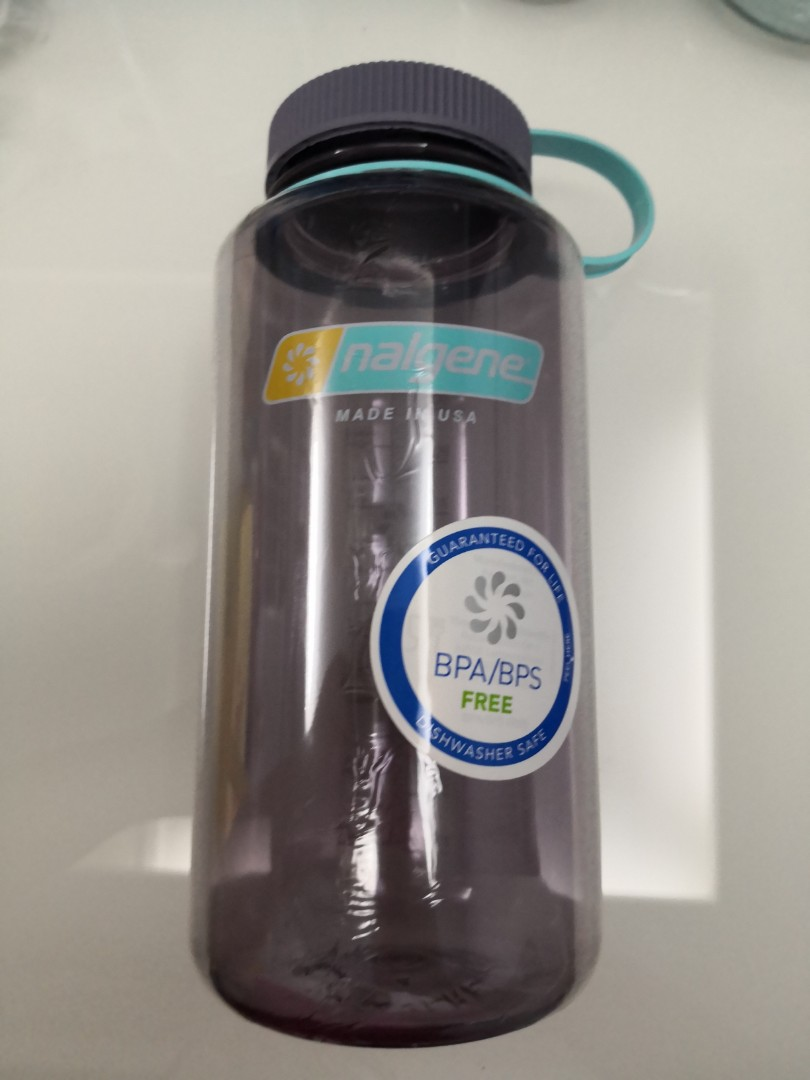bottle: (193, 58, 659, 1051)
